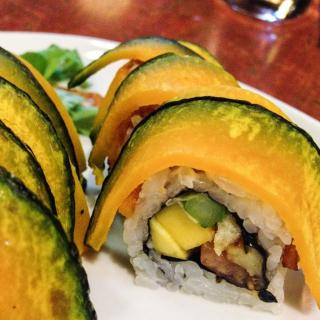Sushi: (0, 35, 319, 319)
